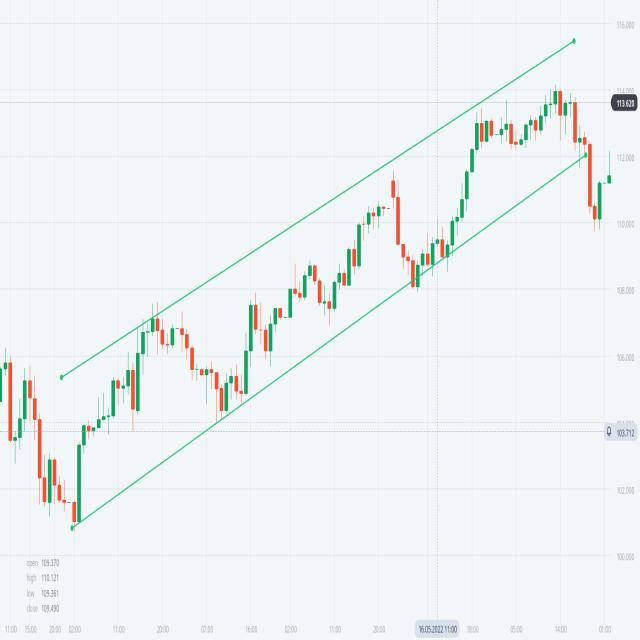Channel-up: (20, 50, 597, 558)
